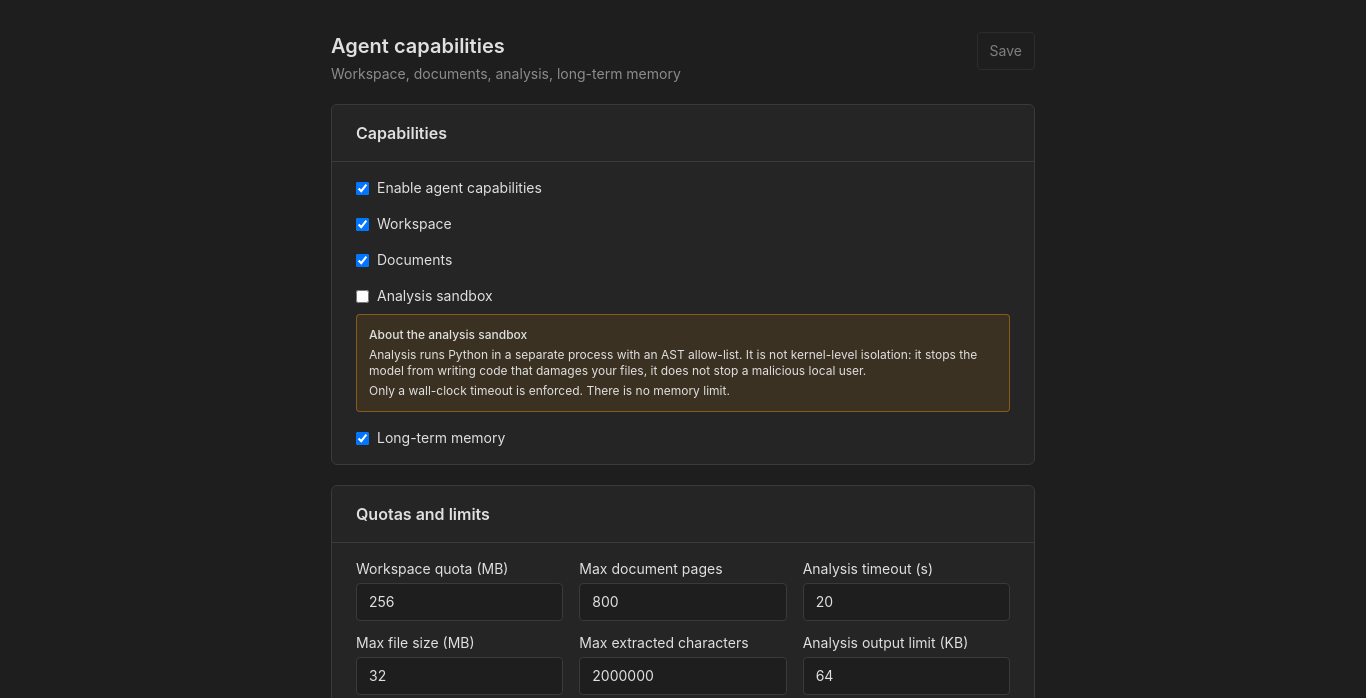
Test: Agent 能力设置面板 › 保存失败播报失败文案
Replace the text in the number field labelled "Max file size (MB)" with "64" at (460, 676), box top-left (356, 657), bottom-right (563, 695)
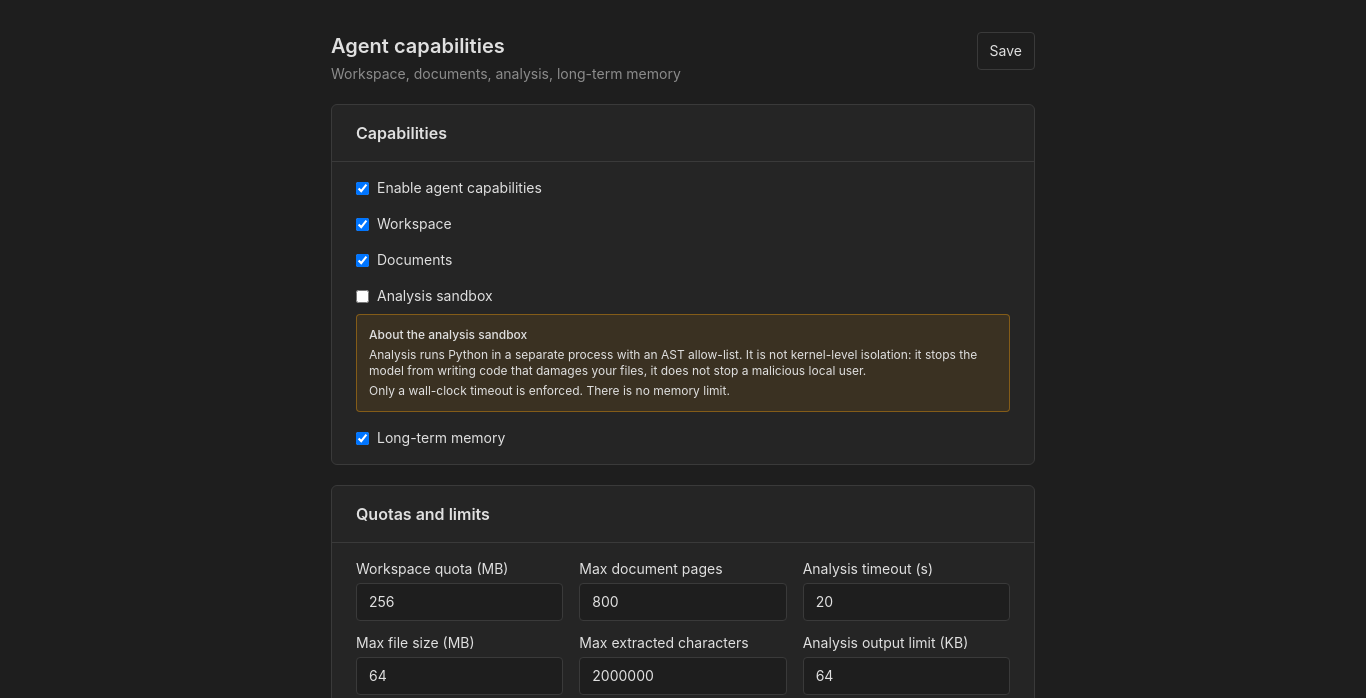
Click the button "Save" at (1006, 51), box top-left (977, 32), bottom-right (1035, 70)
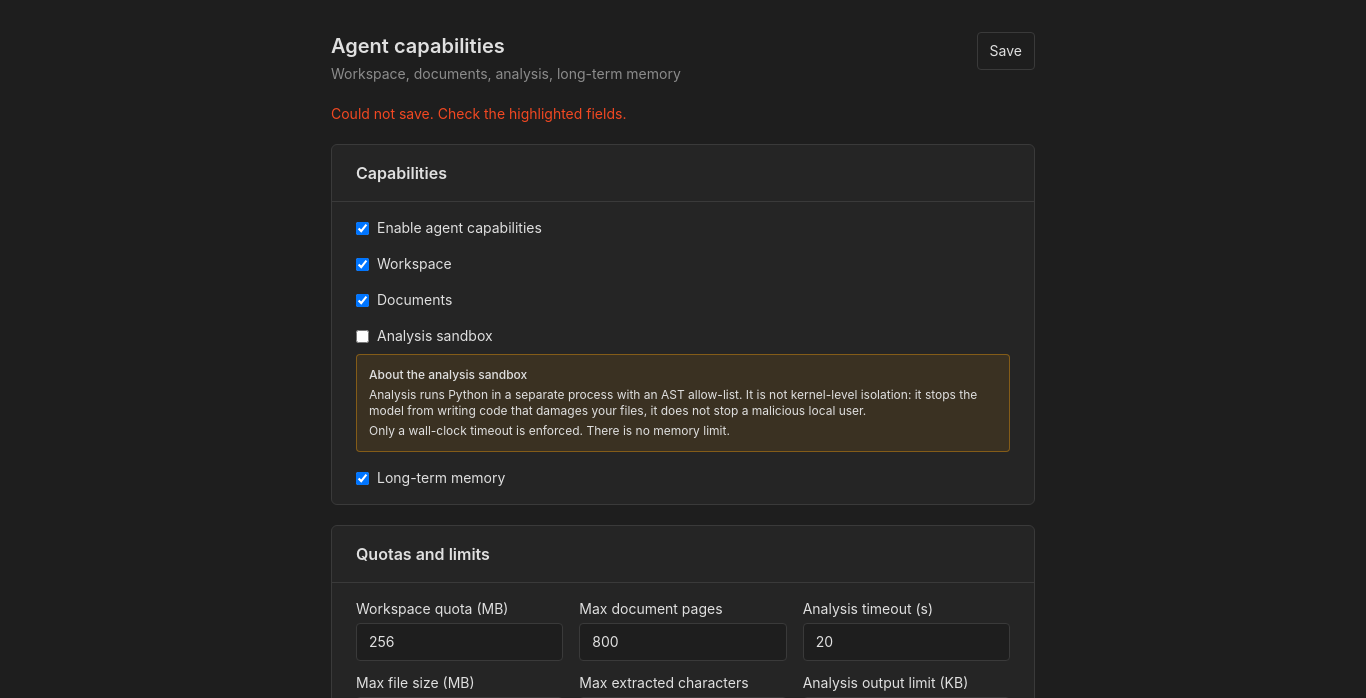
Expected: the text "Could not save. Check the highlighted fields." is shown, top-left (331, 105), bottom-right (626, 122)
